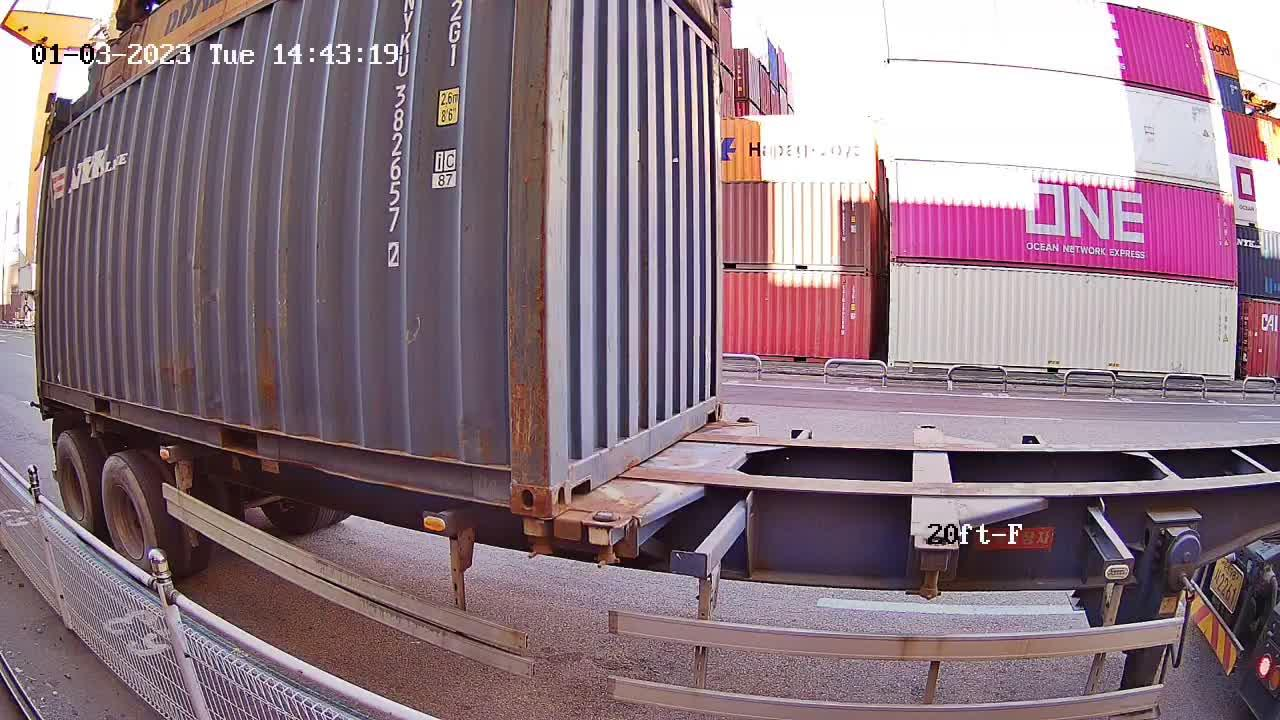Chassis: (586, 417, 756, 527)
Cone: (586, 507, 633, 569), (514, 517, 556, 559)
Hole_L: (549, 438, 592, 518)
Hole_R: (482, 450, 548, 518)
Tire: (102, 458, 157, 577), (56, 433, 92, 538)
